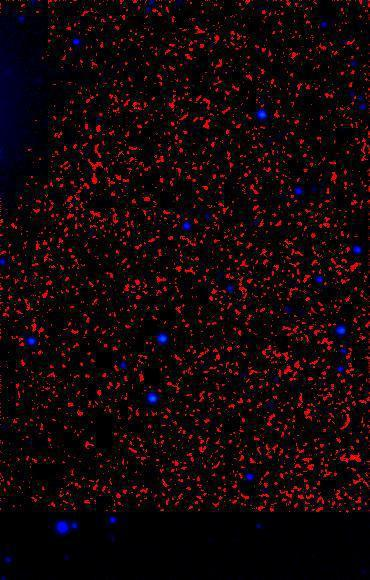star: (243, 93, 273, 123)
